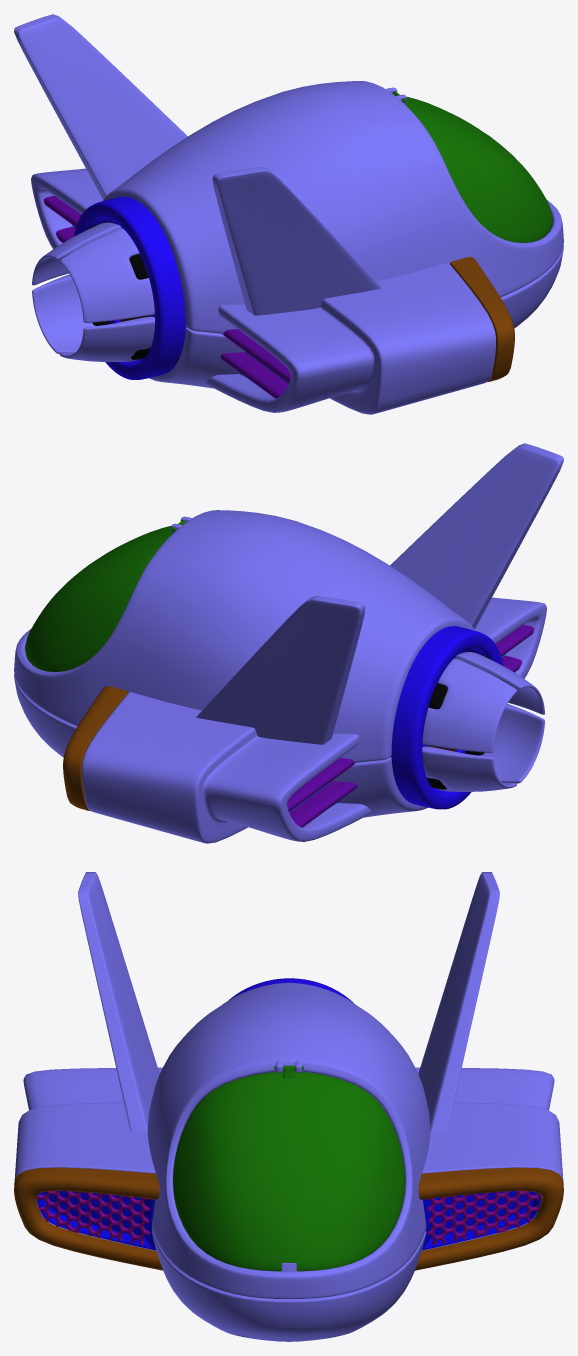
Rendered from skyroadsShip.fbx.
3 views of the same model, one above another, from view 1: azimuth 30°, elevation 25°; view 2: azimuth 150°, elevation 25°; view 3: azimuth 270°, elevation 25° (orthographic).
Visible parts, largest first — view 1: Main Ship, Engine 2, Engine 4, Engine 3, Engine 1; view 2: Main Ship, Engine 1, Engine 3, Engine 4, Engine 2; view 3: Main Ship.
Boxes of the visible parts, box(x1,y1,x2,y2) form: Main Ship: box(14, 14, 563, 414); Engine 2: box(60, 228, 154, 322); Engine 4: box(32, 274, 95, 354); Engine 3: box(60, 316, 154, 361); Engine 1: box(32, 222, 121, 285); Main Ship: box(14, 443, 563, 843); Engine 1: box(422, 658, 516, 752); Engine 3: box(478, 704, 544, 783); Engine 4: box(422, 746, 516, 791); Engine 2: box(455, 652, 544, 714); Main Ship: box(14, 872, 563, 1341).
Bounding box in the file's own units: 37.72 × 23.07 × 37.16.
